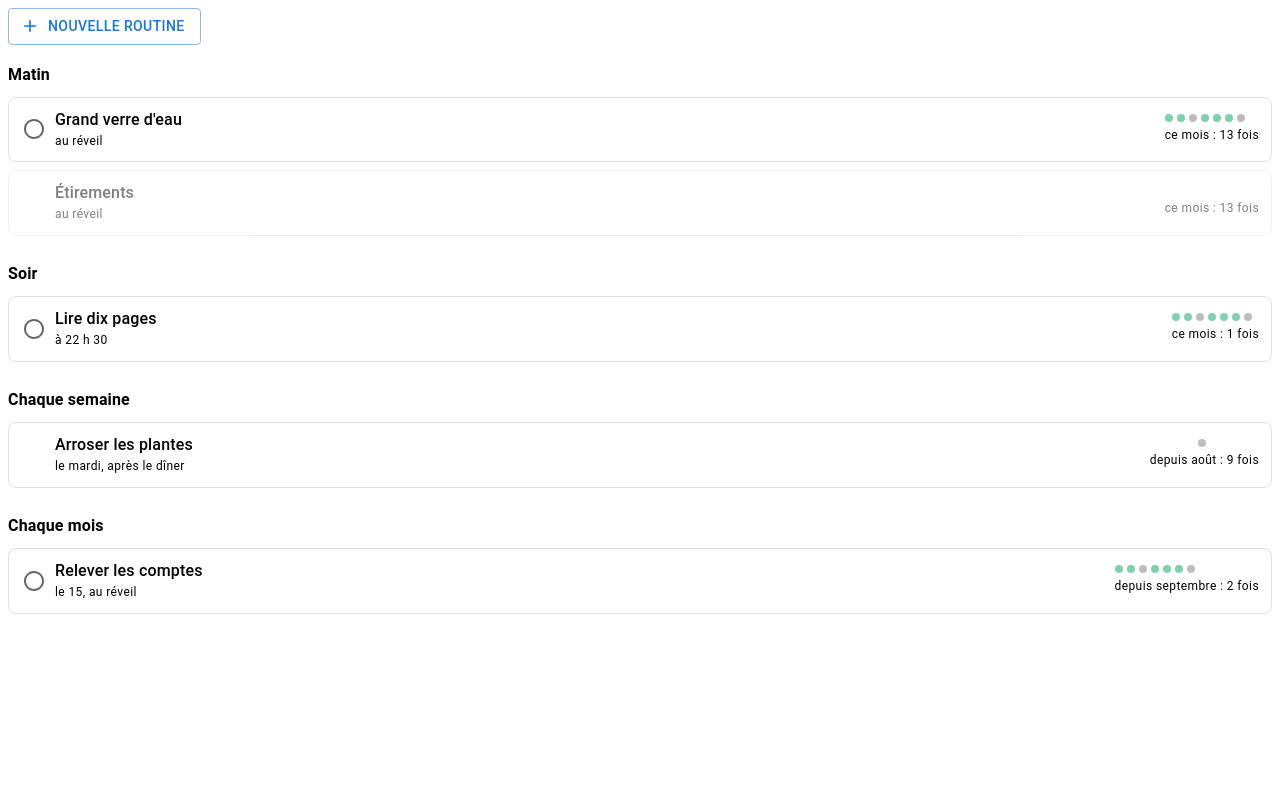
Scenario: TaskRoutines (MAG-511) › ticking sends a PUT on today, unticking a DELETE, and the count follows
Step 1. Click the checkbox named "Grand verre d'eau : fait aujourd'hui" → (34, 130), box [22,118,46,142]
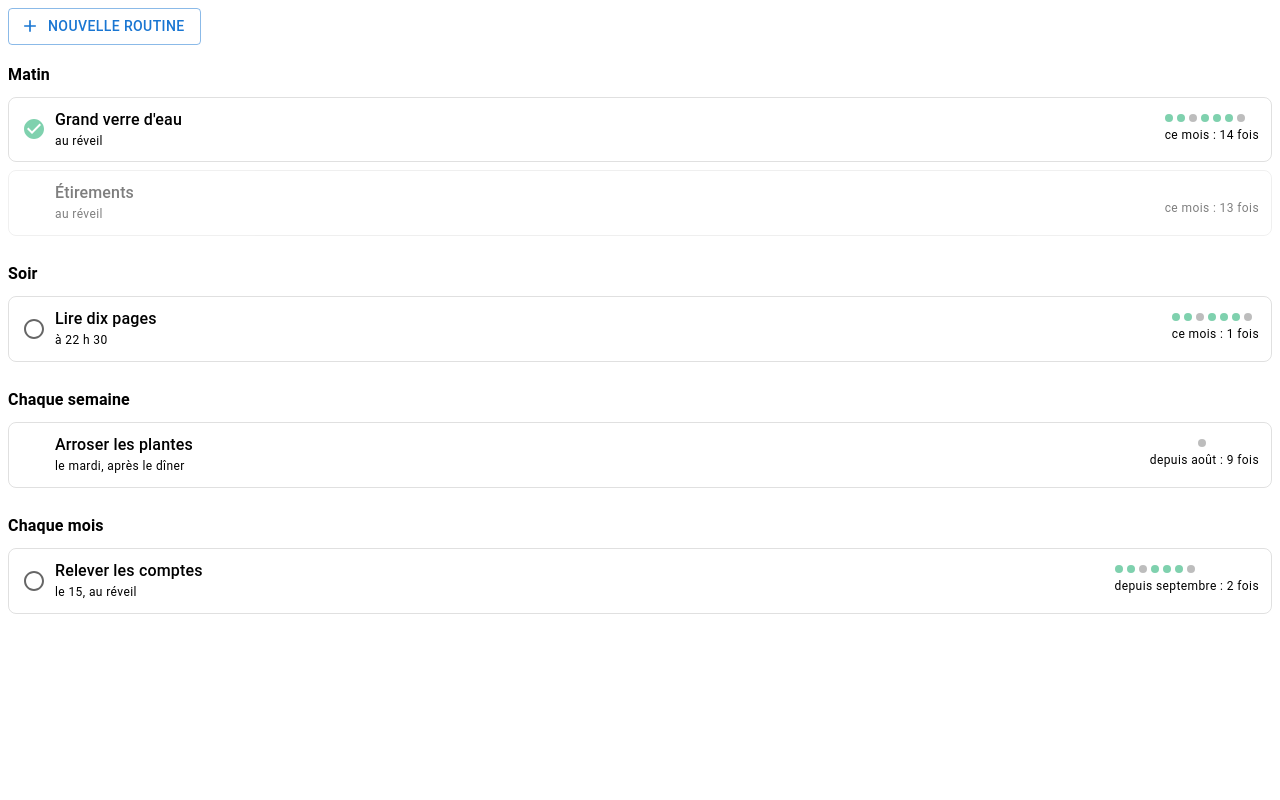
Now the checkbox named "Grand verre d'eau : fait aujourd'hui" is checked
Now the text "ce mois : 14 fois" is shown, box [1165,126,1259,145]
Step 2. Click the checkbox named "Grand verre d'eau : fait aujourd'hui" → (34, 130), box [22,118,46,142]
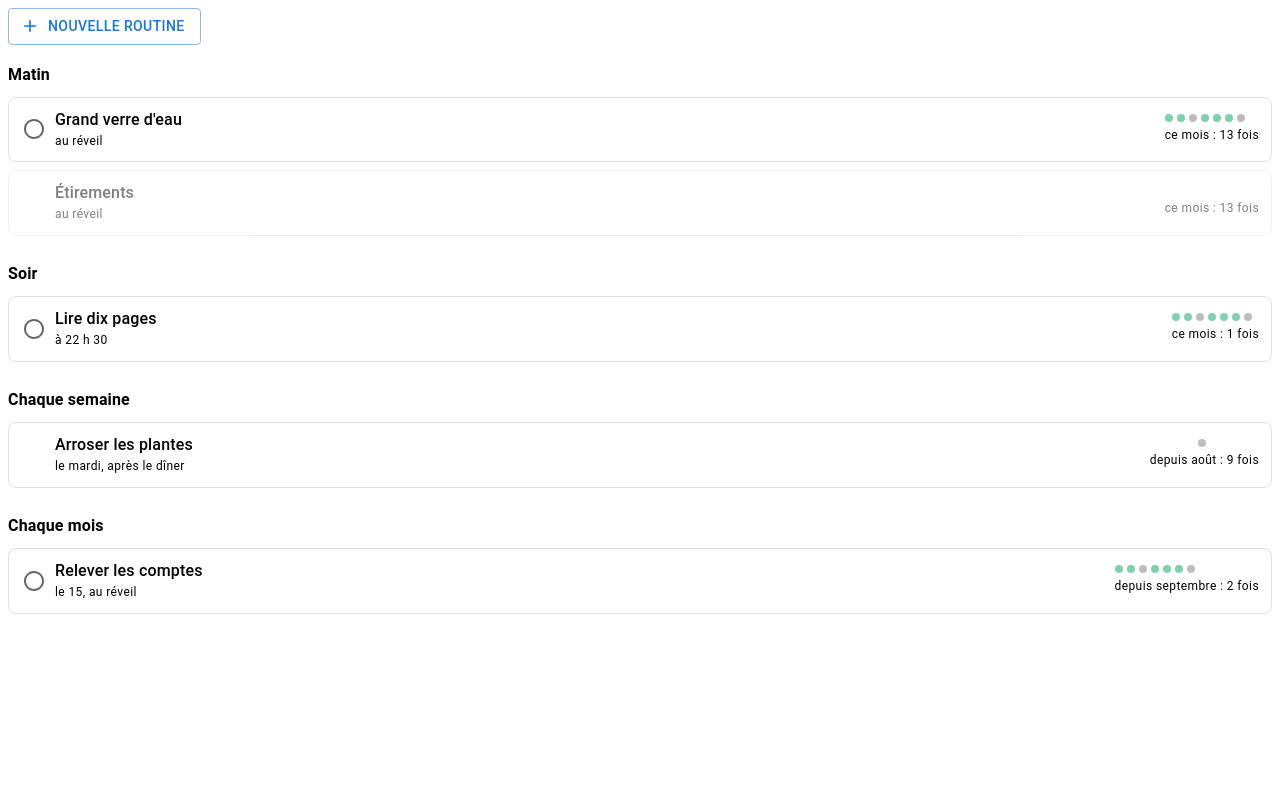
Now the checkbox named "Grand verre d'eau : fait aujourd'hui" is not checked, box [22,118,46,142]
Now the 1st text "ce mois : 13 fois" is shown, box [1165,126,1259,145]
